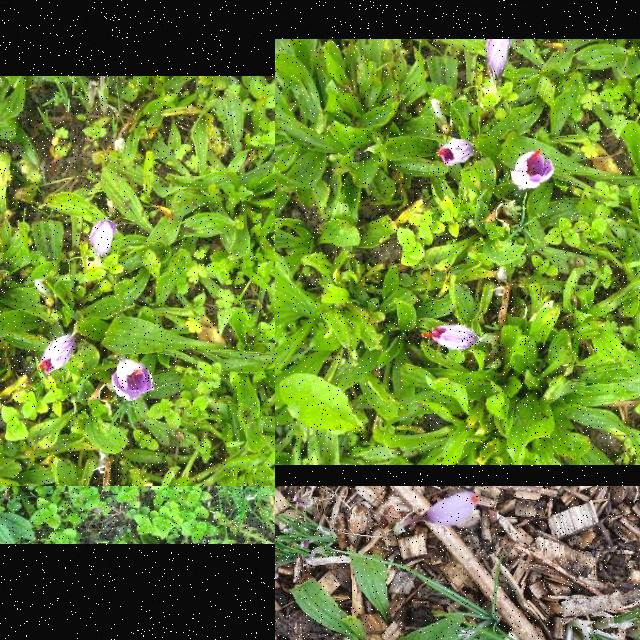flower: (112, 354, 156, 402), (422, 491, 480, 525), (38, 334, 82, 376), (510, 151, 554, 191), (420, 325, 478, 351), (90, 220, 118, 260), (437, 138, 475, 166), (488, 39, 508, 79)
